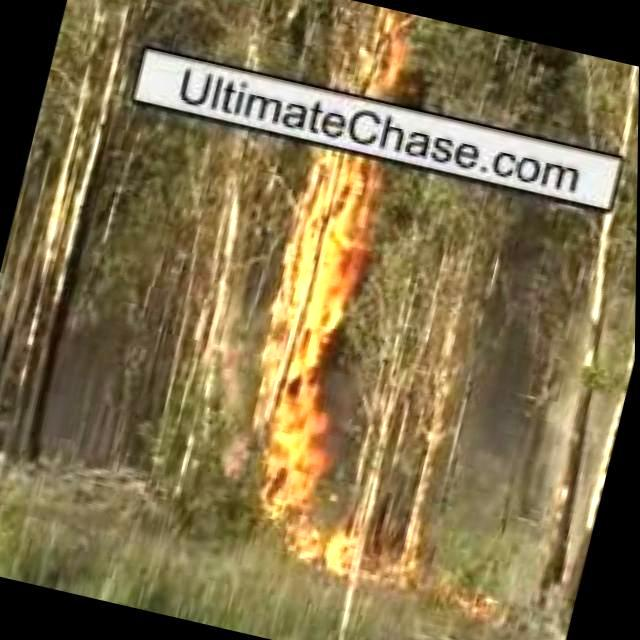fire: (252, 155, 376, 417), (222, 412, 394, 576), (350, 3, 412, 93)
